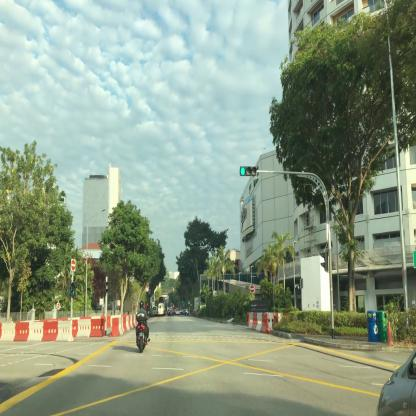green_traffic_light: (239, 166, 257, 176)
